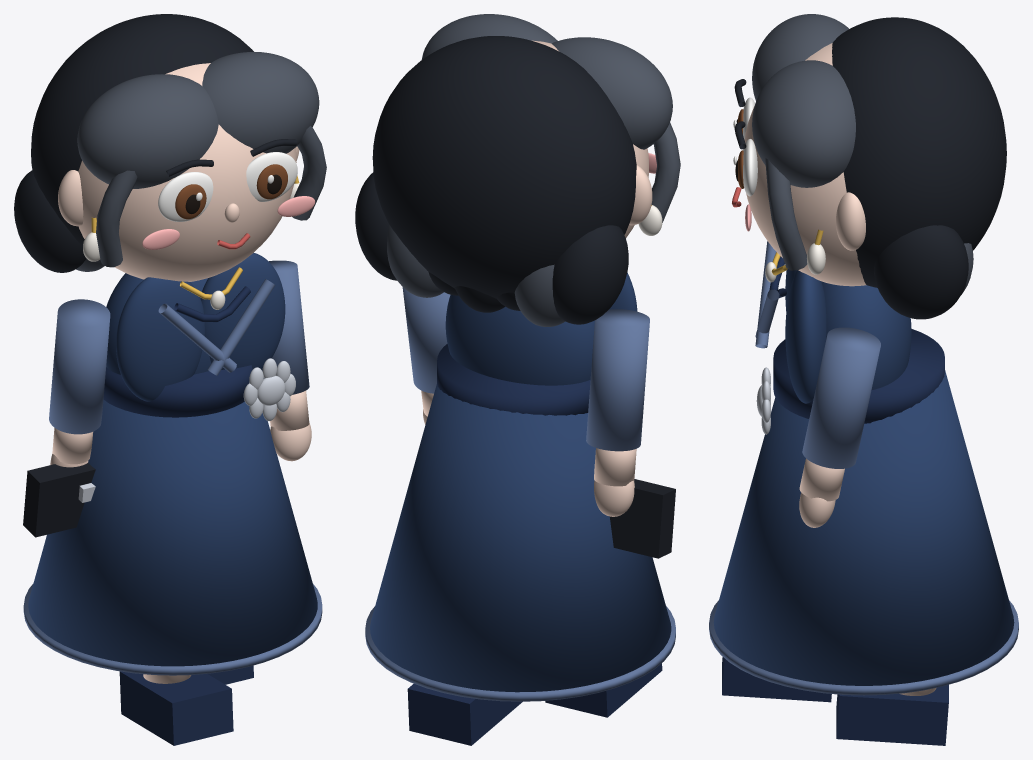
File: guest-10-master.glb
3 views of the same model, side by side, from view 1: azimuth 30°, elevation 25°; view 2: azimuth 150°, elevation 25°; view 3: azimuth 270°, elevation 25° (orthographic). The views are drawn at different scales.
Visible parts, largest first — view 1: Skirt, Head, Hair back, Hair left crown, Hair right crown, Left bolero panel, Sleeve -1, Shoe -1, Right bolero panel, Waist belt, Guest10 bob lock 1, Guest10 right-hand clutch (+19 smaller); view 2: Skirt, Hair back, Torso, Sleeve -1, Hair left crown, Guest10 bob lock 1, Waist belt, Shoe 1, Guest10 right-hand clutch, Skirt hem, Sleeve 1, Hair right crown (+10 smaller); view 3: Skirt, Hair back, Hair right crown, Sleeve 1, Guest10 bob lock 7, Head, Shoe 1, Waist belt, Torso, Right bolero panel, Skirt hem, Hair left crown (+8 smaller).
Part boxes in pixels (x1,y1,x2,y2): Skirt: (28,400,317,666); Head: (78,63,296,281); Hair back: (31,14,253,259); Hair left crown: (77,74,218,188); Hair right crown: (202,52,319,153); Left bolero panel: (116,277,204,401); Sleeve -1: (49,299,110,434); Shoe -1: (119,671,233,745); Right bolero panel: (200,253,285,369); Waist belt: (103,365,252,417); Guest10 bob lock 1: (14,170,86,272); Guest10 right-hand clutch: (23,463,95,537); Skirt: (370,384,671,692); Hair back: (372,36,636,298); Torso: (445,295,594,385); Sleeve -1: (586,309,649,451); Hair left crown: (551,37,672,149); Guest10 bob lock 1: (552,225,628,324); Waist belt: (437,344,590,415); Shoe 1: (407,684,522,745); Guest10 right-hand clutch: (609,479,675,558); Skirt hem: (365,606,675,701); Sleeve 1: (402,287,450,393); Hair right crown: (421,14,557,59); Skirt: (713,370,1014,685); Hair back: (832,17,1006,287); Hair right crown: (752,60,855,187); Sleeve 1: (802,327,880,468); Guest10 bob lock 7: (874,225,968,319); Head: (743,43,866,286); Shoe 1: (836,684,948,745); Waist belt: (773,329,944,423); Torso: (821,281,911,390); Right bolero panel: (785,270,826,403); Skirt hem: (709,600,1018,695); Hair left crown: (752,14,848,100).
Size of the model in its own units: 1.36 by 3.16 by 1.3.
